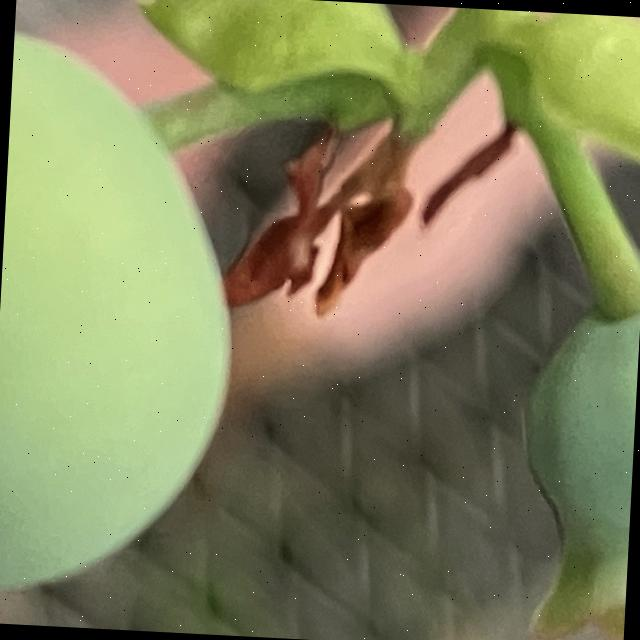Blueberries: (0, 13, 257, 635)
